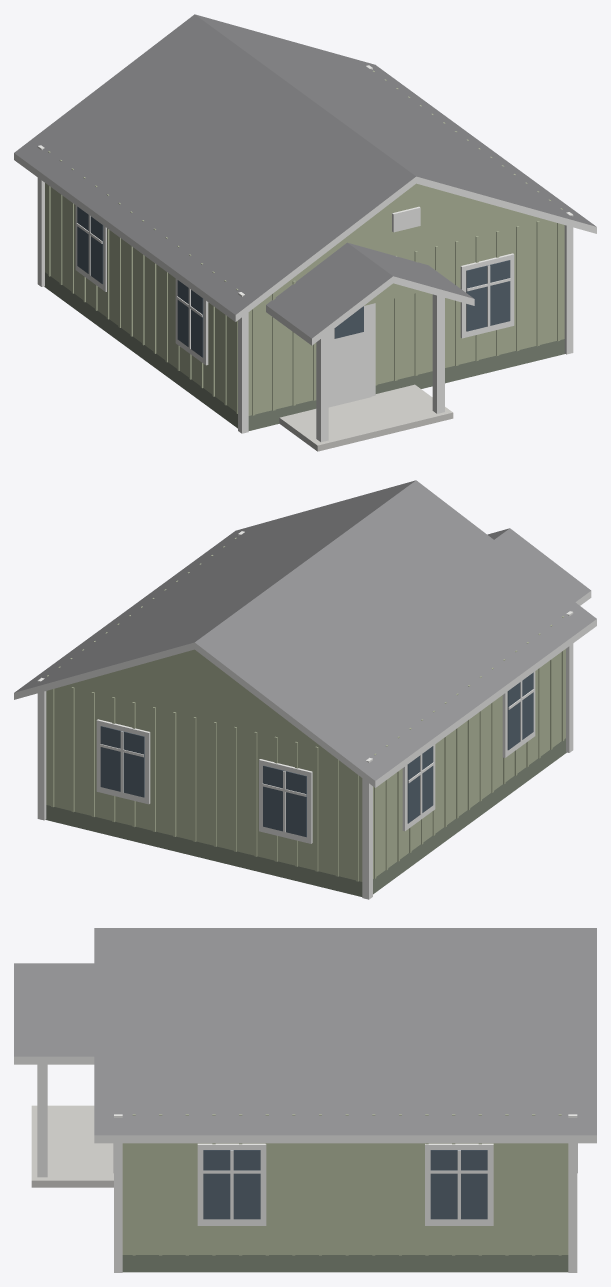
File: escalon-sage.glb
The picture shows the model from 3 angles, top to bottom: view 1: azimuth 30°, elevation 25°; view 2: azimuth 150°, elevation 25°; view 3: azimuth 270°, elevation 25°; orthographic projection. The views are drawn at different scales.
Parts seen in each view (by area): view 1: The Escalon (sage); view 2: The Escalon (sage); view 3: The Escalon (sage).
Part boxes in pixels (<box>): The Escalon (sage): <box>14,14,596,451</box>; The Escalon (sage): <box>14,480,596,899</box>; The Escalon (sage): <box>14,928,596,1272</box>.
Bounding box in the file's own units: 7.47 × 4.43 × 9.19.
